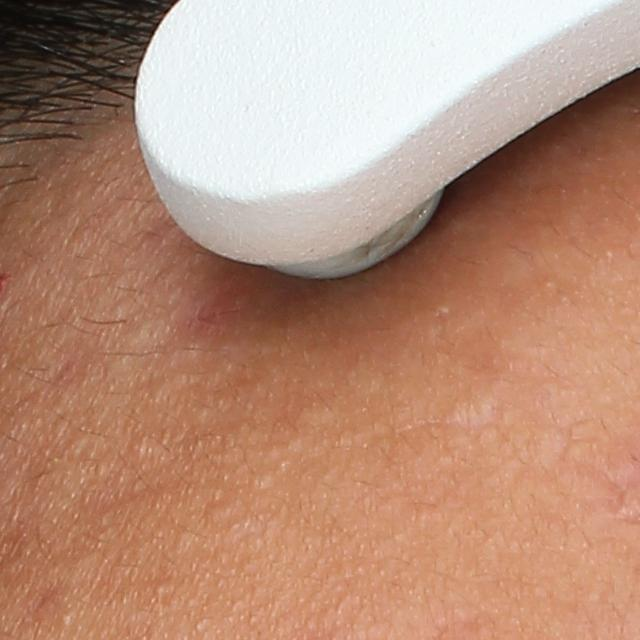comedo: (54, 610, 74, 630)
